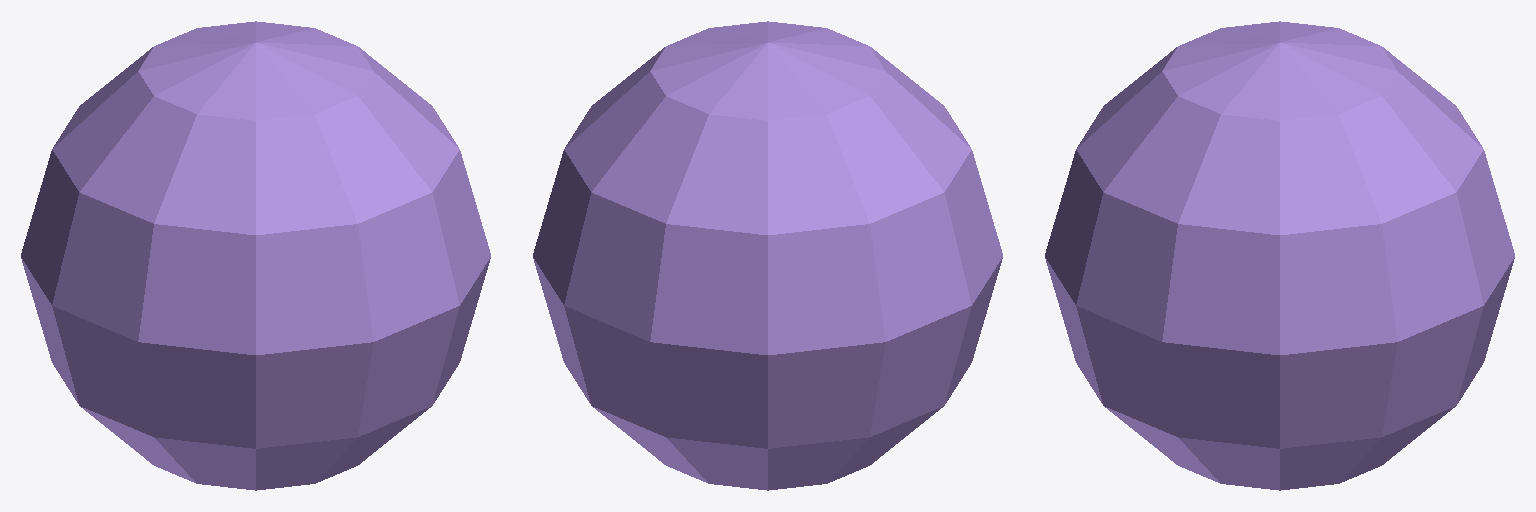
File: snow.obj
The picture shows the model from 3 angles: view 1: azimuth 30°, elevation 25°; view 2: azimuth 150°, elevation 25°; view 3: azimuth 270°, elevation 25°; orthographic projection.
Visible parts, largest first — view 1: Sphere001; view 2: Sphere001; view 3: Sphere001.
Boxes of the visible parts, box(x1,y1,x2,y2) form: Sphere001: box(21, 21, 490, 490); Sphere001: box(533, 21, 1002, 490); Sphere001: box(1045, 21, 1514, 490).
Size of the model in its own units: 2 by 2 by 2.